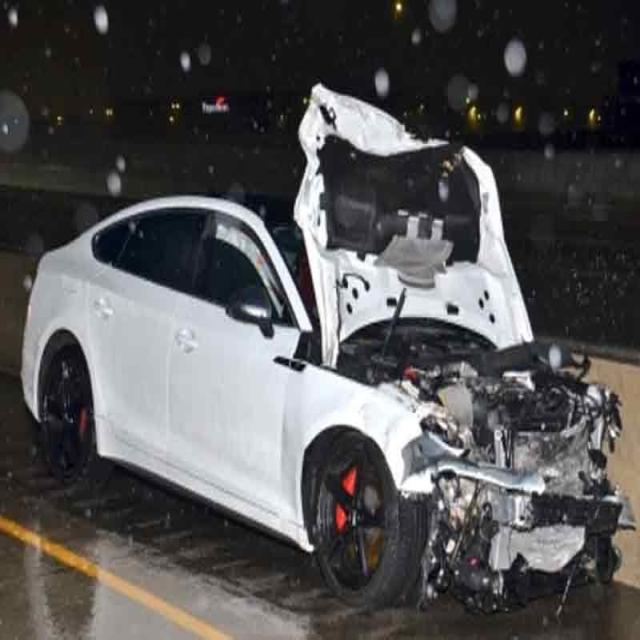accident: (21, 83, 629, 609)
